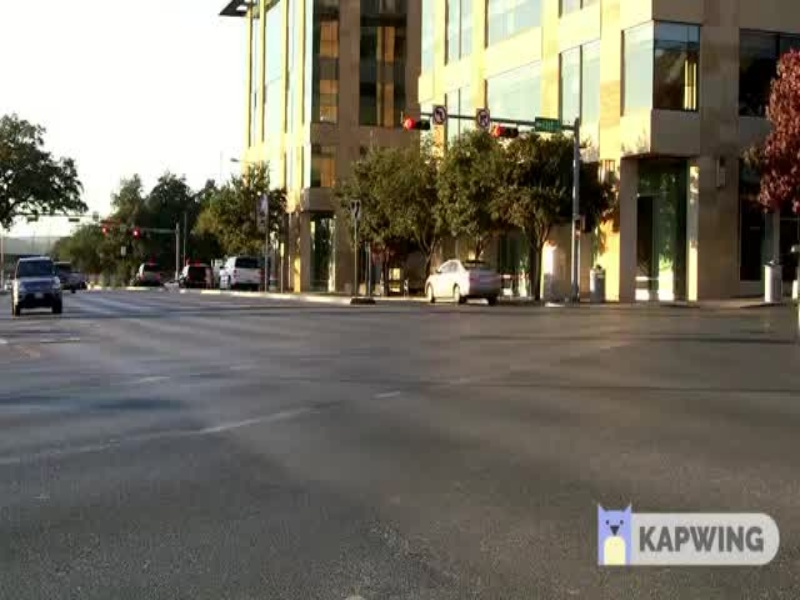car: (3, 250, 72, 318), (414, 253, 498, 308), (216, 247, 262, 296)
